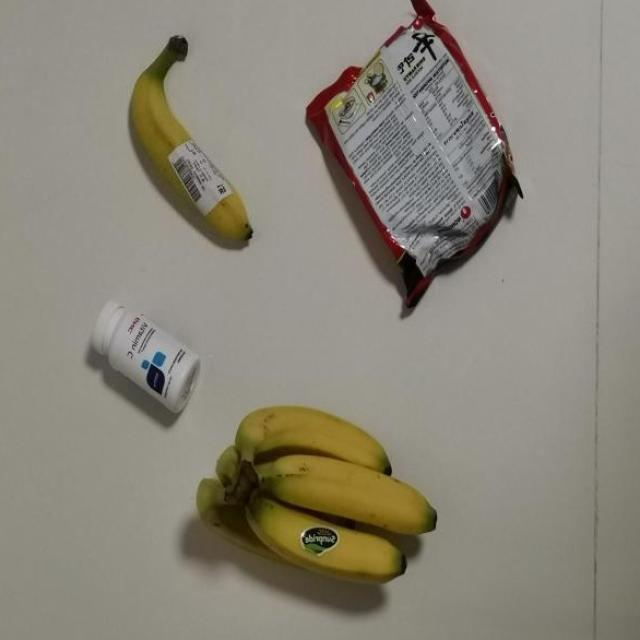Banana: (189, 407, 453, 584), (128, 37, 256, 251)
